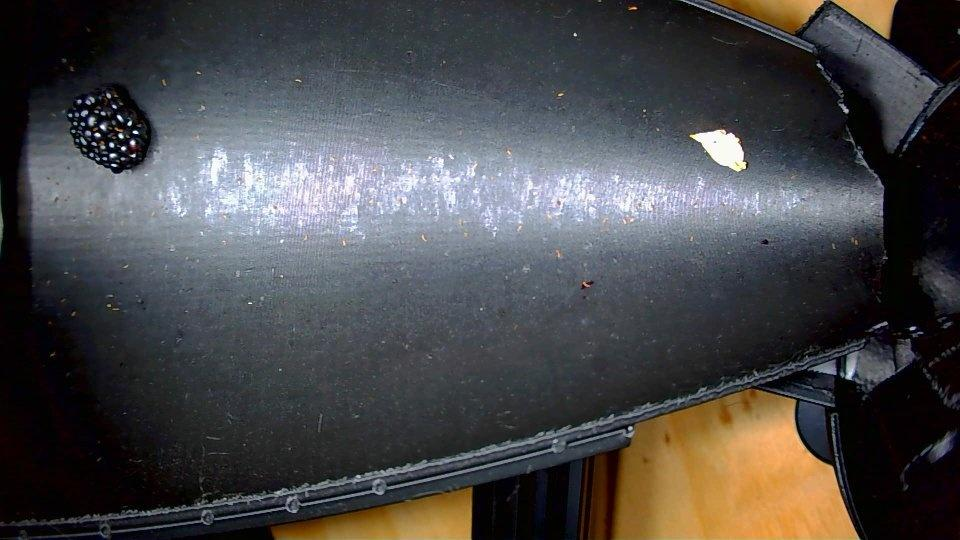berry: (67, 86, 150, 173)
